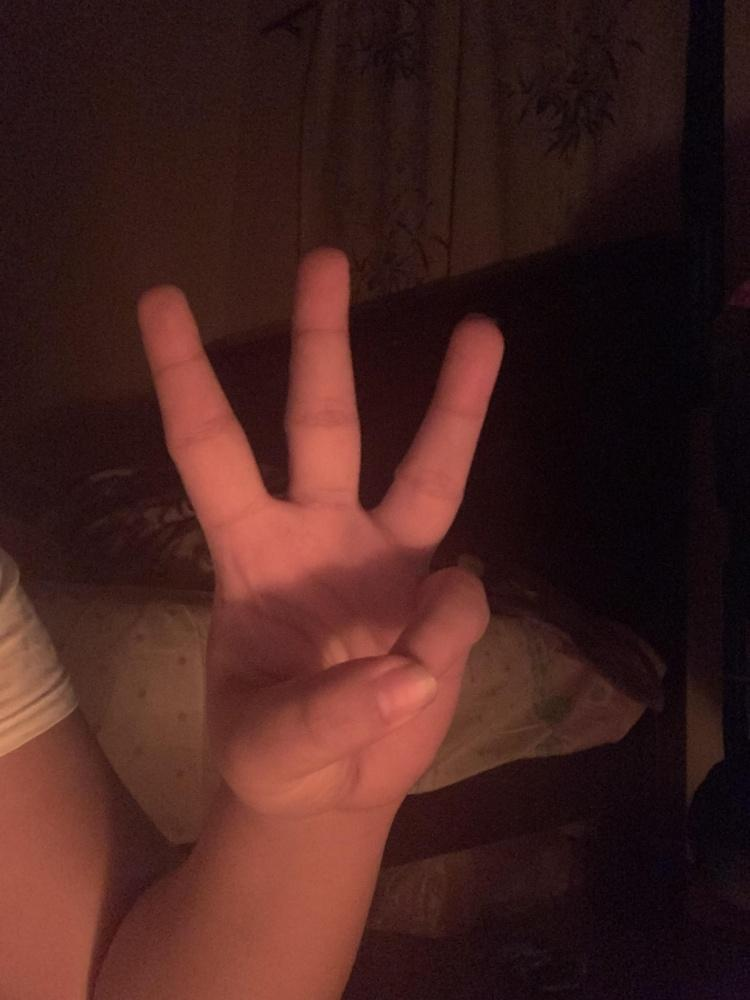w: (130, 245, 506, 818)
